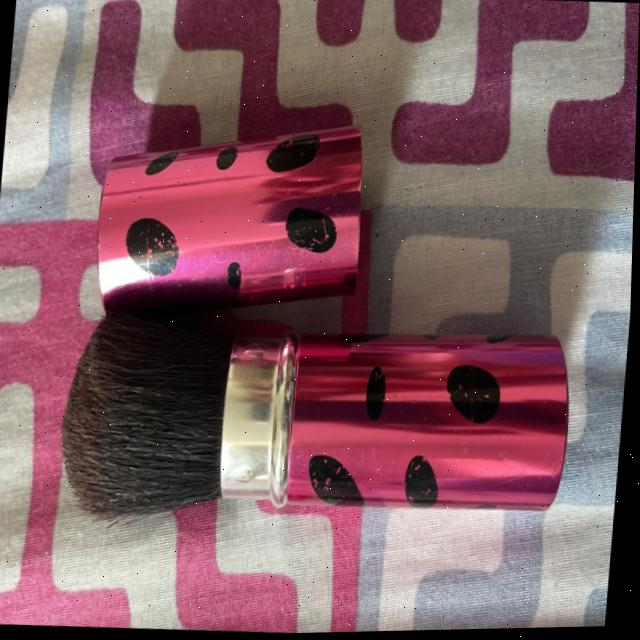brush: (50, 285, 594, 564), (45, 298, 263, 557)
